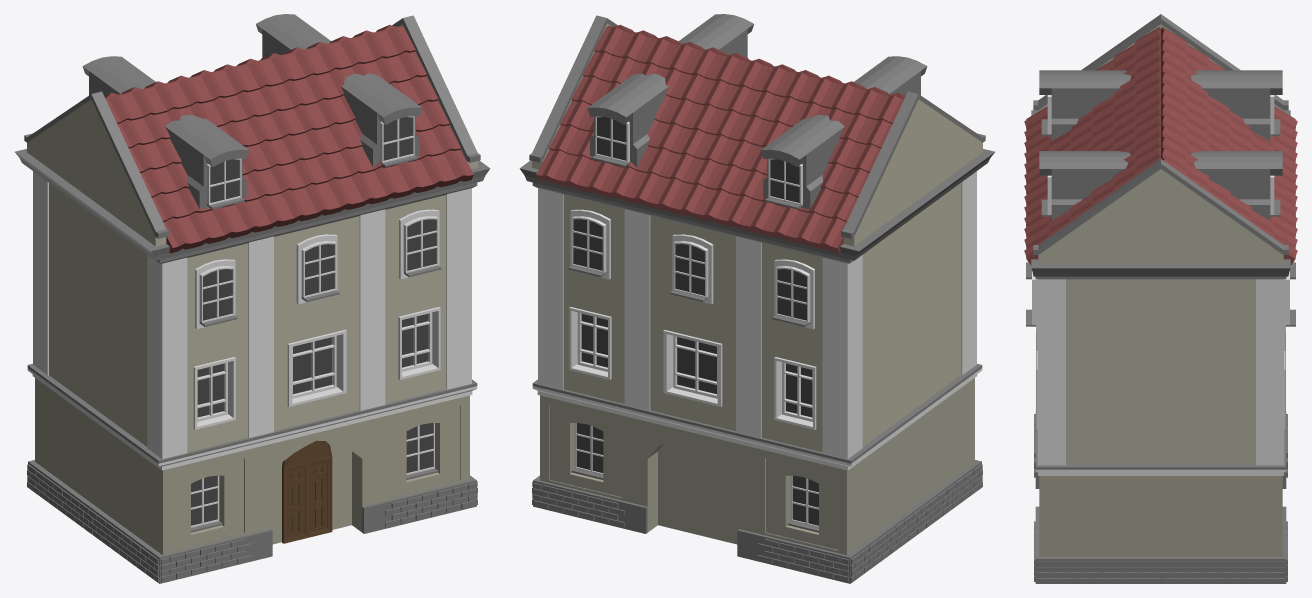
File: Building1_Small.glb
3 views of the same model, side by side, from view 1: azimuth 30°, elevation 25°; view 2: azimuth 150°, elevation 25°; view 3: azimuth 270°, elevation 25° (orthographic). The views are drawn at different scales.
Visible parts, largest first — view 1: Building1_Small_2, Building1_Small_4, Building1_Small_0, Building1_Small_3, Building1_Small_6, Building1_Small_5, Building1_Small_1; view 2: Building1_Small_2, Building1_Small_4, Building1_Small_0, Building1_Small_3, Building1_Small_6, Building1_Small_5; view 3: Building1_Small_2, Building1_Small_3, Building1_Small_0, Building1_Small_6, Building1_Small_4.
Part boxes in pixels (left/top/right/bottom): Building1_Small_2: left=27, top=23, right=477, bottom=452; Building1_Small_4: left=27, top=116, right=477, bottom=527; Building1_Small_0: left=104, top=24, right=473, bottom=253; Building1_Small_3: left=15, top=14, right=490, bottom=583; Building1_Small_6: left=35, top=378, right=469, bottom=555; Building1_Small_5: left=191, top=117, right=436, bottom=525; Building1_Small_1: left=282, top=440, right=332, bottom=543; Building1_Small_2: left=532, top=23, right=982, bottom=452; Building1_Small_4: left=532, top=116, right=982, bottom=527; Building1_Small_0: left=536, top=24, right=905, bottom=253; Building1_Small_3: left=519, top=14, right=994, bottom=583; Building1_Small_6: left=540, top=378, right=974, bottom=555; Building1_Small_5: left=573, top=117, right=818, bottom=525; Building1_Small_2: left=1038, top=24, right=1283, bottom=464; Building1_Small_3: left=1026, top=14, right=1295, bottom=583; Building1_Small_0: left=1024, top=27, right=1297, bottom=265; Building1_Small_6: left=1039, top=476, right=1282, bottom=556; Building1_Small_4: left=1032, top=95, right=1289, bottom=475.
Bounding box in the file's own units: 3.75 × 4.66 × 2.74.
